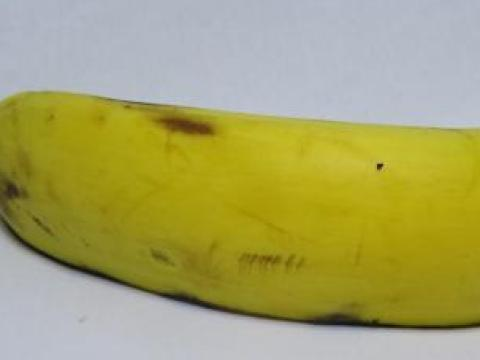freshripe: (0, 69, 479, 346)
